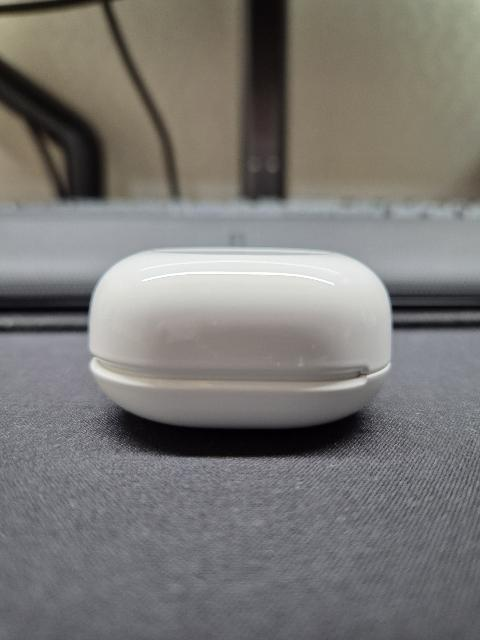earphone_case: (88, 245, 392, 429)
